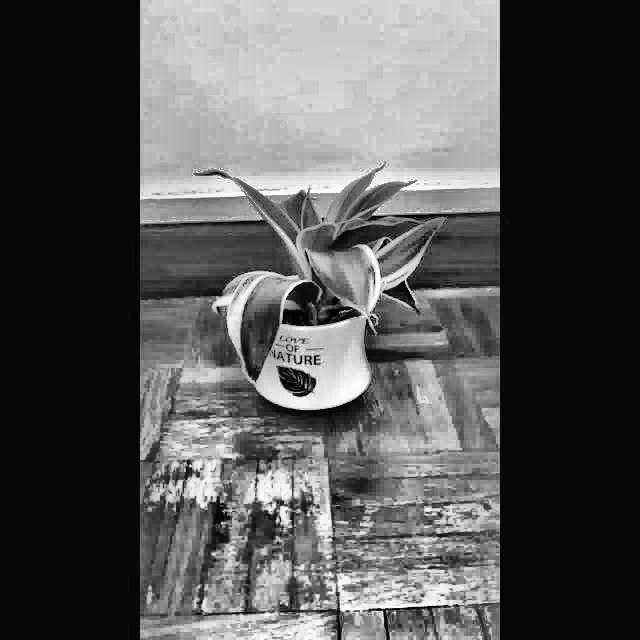plants: (181, 143, 450, 420)
